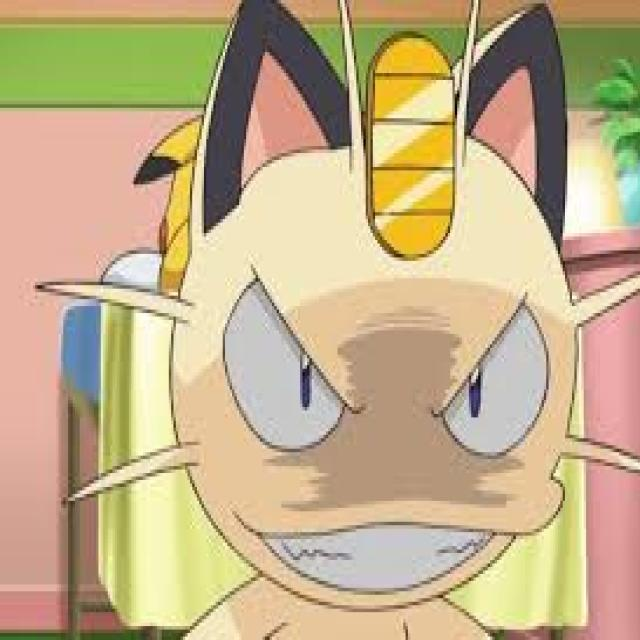Meowth: (184, 4, 572, 640)
